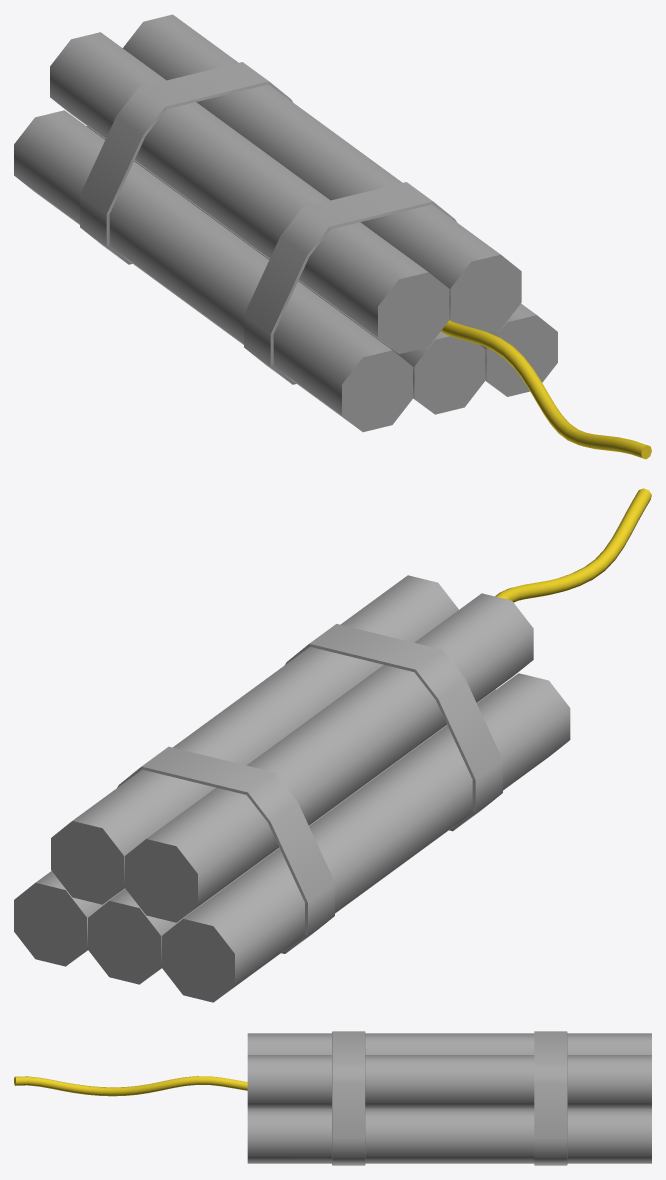
Rendered from Dynamite.fbx.
The picture shows the model from 3 angles, top to bottom: view 1: azimuth 30°, elevation 25°; view 2: azimuth 150°, elevation 25°; view 3: azimuth 270°, elevation 25°; orthographic projection. The views are drawn at different scales.
Parts seen in each view (by area): view 1: Dynamite_002_geo, Dynamite_003_geo, Dynamite_001_geo, Rubber_Band_002_geo, Rubber_Band_001_geo, Dynamite_005_geo, Dynamite_004_geo, Fuse_geo; view 2: Dynamite_002_geo, Dynamite_003_geo, Dynamite_001_geo, Rubber_Band_002_geo, Rubber_Band_001_geo, Dynamite_005_geo, Dynamite_004_geo, Fuse_geo; view 3: Dynamite_004_geo, Dynamite_001_geo, Dynamite_002_geo, Rubber_Band_001_geo, Rubber_Band_002_geo, Fuse_geo.
Part boxes in pixels (x1=…): Dynamite_002_geo: x1=50, y1=32, x2=449, y2=353; Dynamite_003_geo: x1=14, y1=110, x2=413, y2=432; Dynamite_001_geo: x1=123, y1=14, x2=521, y2=332; Rubber_Band_002_geo: x1=244, y1=182, x2=456, y2=384; Rubber_Band_001_geo: x1=80, y1=62, x2=292, y2=264; Dynamite_005_geo: x1=86, y1=126, x2=485, y2=414; Dynamite_004_geo: x1=480, y1=303, x2=557, y2=396; Fuse_geo: x1=440, y1=320, x2=651, y2=459; Dynamite_002_geo: x1=124, y1=593, x2=533, y2=922; Dynamite_003_geo: x1=161, y1=673, x2=570, y2=1002; Dynamite_001_geo: x1=51, y1=575, x2=458, y2=904; Rubber_Band_002_geo: x1=285, y1=624, x2=502, y2=831; Rubber_Band_001_geo: x1=117, y1=746, x2=334, y2=953; Dynamite_005_geo: x1=88, y1=689, x2=495, y2=984; Dynamite_004_geo: x1=14, y1=871, x2=125, y2=966; Fuse_geo: x1=495, y1=488, x2=651, y2=602; Dynamite_004_geo: x1=247, y1=1108, x2=651, y2=1163; Dynamite_001_geo: x1=247, y1=1055, x2=651, y2=1108; Dynamite_002_geo: x1=247, y1=1033, x2=651, y2=1054; Rubber_Band_001_geo: x1=534, y1=1031, x2=567, y2=1165; Rubber_Band_002_geo: x1=332, y1=1031, x2=365, y2=1165; Fuse_geo: x1=14, y1=1076, x2=247, y2=1096.
Size of the model in its own units: 9.67 by 6.22 by 39.1.
